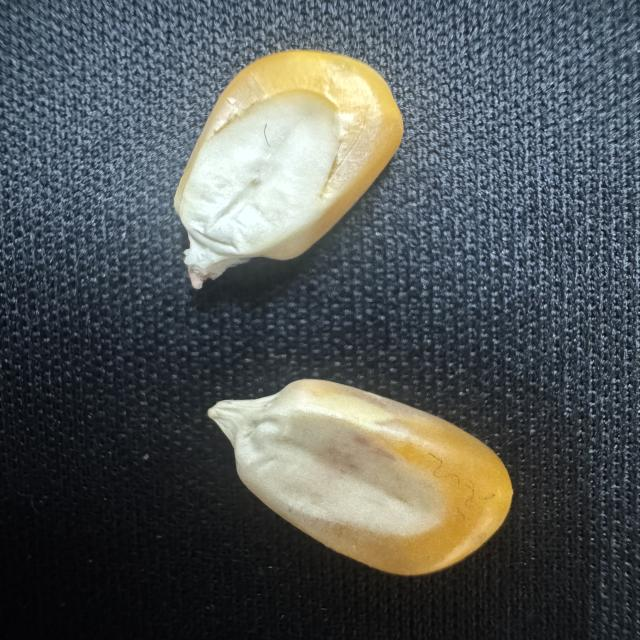Good-Seed: (195, 367, 519, 580), (174, 36, 416, 288)
